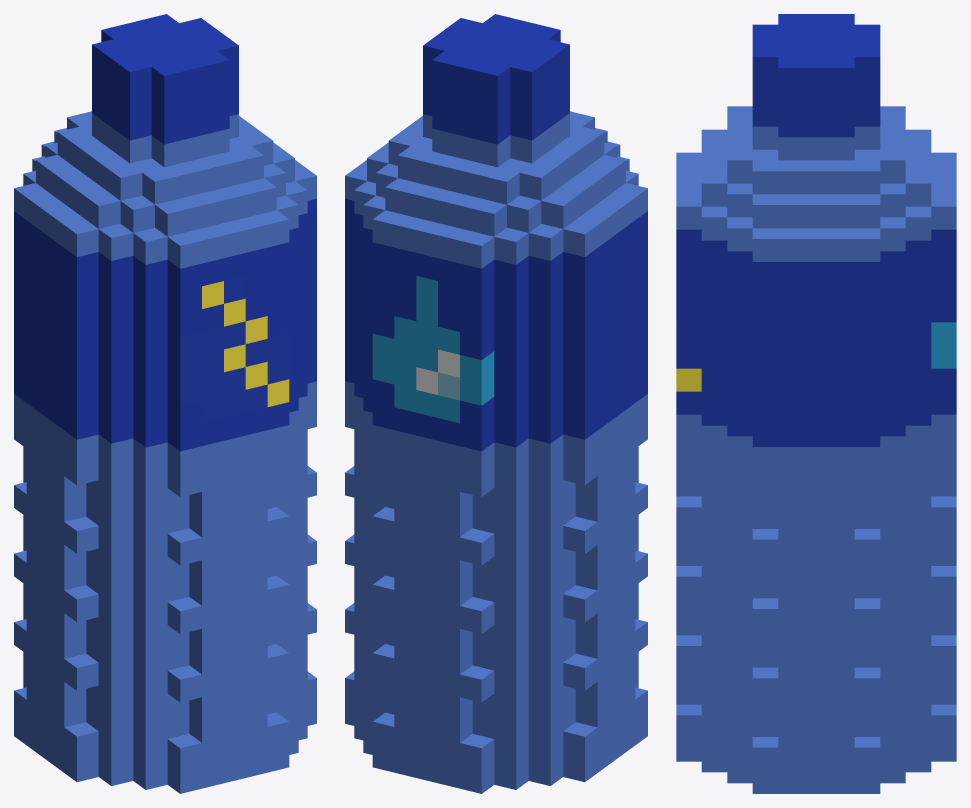
The model's file is arbusto.obj.
3 views of the same model, side by side, from view 1: azimuth 30°, elevation 25°; view 2: azimuth 150°, elevation 25°; view 3: azimuth 270°, elevation 25° (orthographic).
Bounding box in the file's own units: 1.1 × 3 × 1.1.
1 material, 1 textured.
